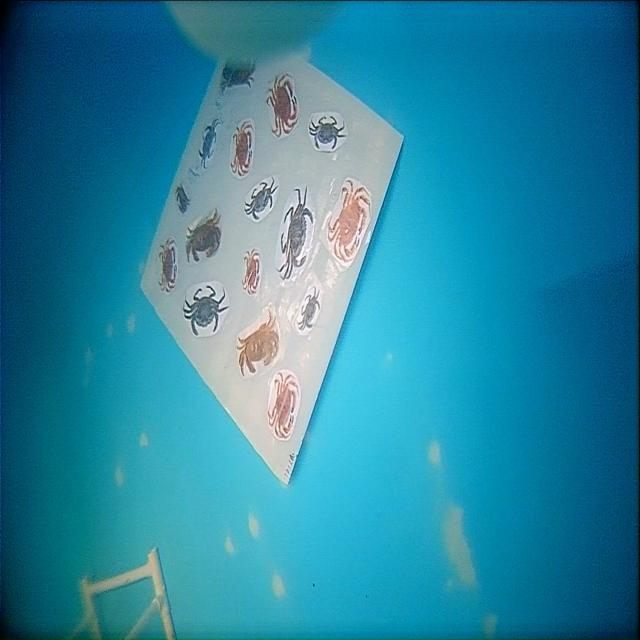GreenCrab: (278, 187, 313, 279), (183, 285, 228, 335), (245, 179, 277, 220), (309, 116, 345, 150), (298, 287, 320, 331)
